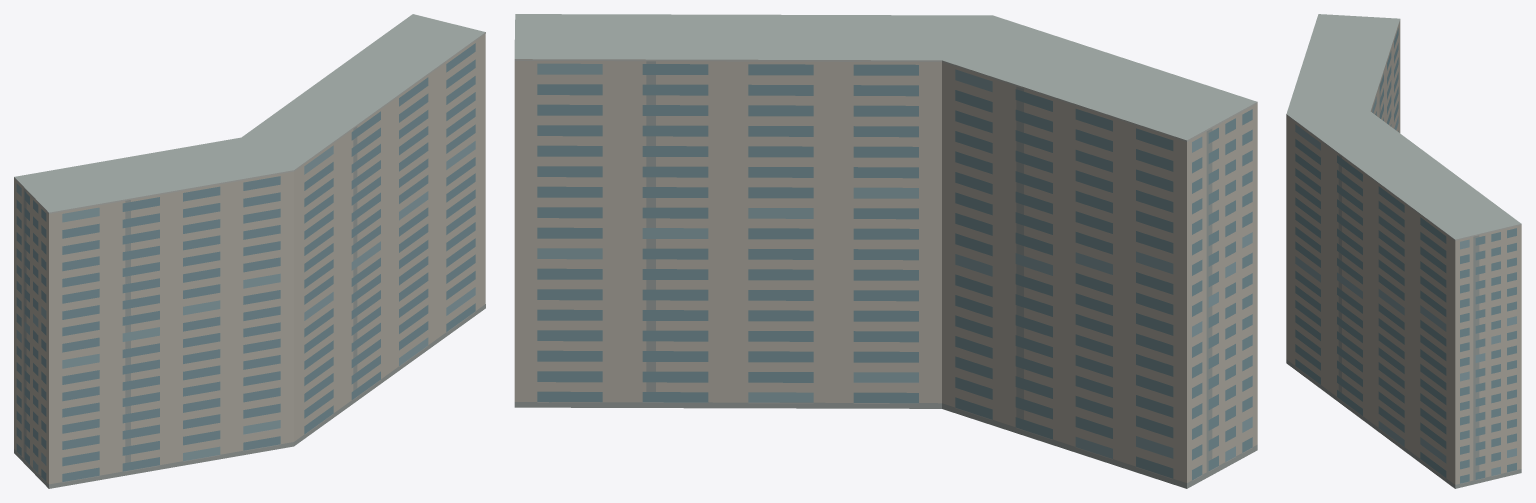
File: residential-f963f1bd-2bdd-476e-a5d8-8bb89da05a40.glb
The picture shows the model from 3 angles, left to right: view 1: azimuth 30°, elevation 25°; view 2: azimuth 150°, elevation 25°; view 3: azimuth 270°, elevation 25°; orthographic projection. The views are drawn at different scales.
Parts seen in each view (by area): view 1: residential-f963f1bd-2bdd-476e-a5d8-8bb89da05a40.tmp; view 2: residential-f963f1bd-2bdd-476e-a5d8-8bb89da05a40.tmp; view 3: residential-f963f1bd-2bdd-476e-a5d8-8bb89da05a40.tmp.
Boxes of the visible parts, bbox=[...] form: residential-f963f1bd-2bdd-476e-a5d8-8bb89da05a40.tmp: bbox=[14, 14, 485, 488]; residential-f963f1bd-2bdd-476e-a5d8-8bb89da05a40.tmp: bbox=[514, 14, 1257, 488]; residential-f963f1bd-2bdd-476e-a5d8-8bb89da05a40.tmp: bbox=[1286, 14, 1521, 488].
Size of the model in its own units: 93.21 by 48 by 41.05.
